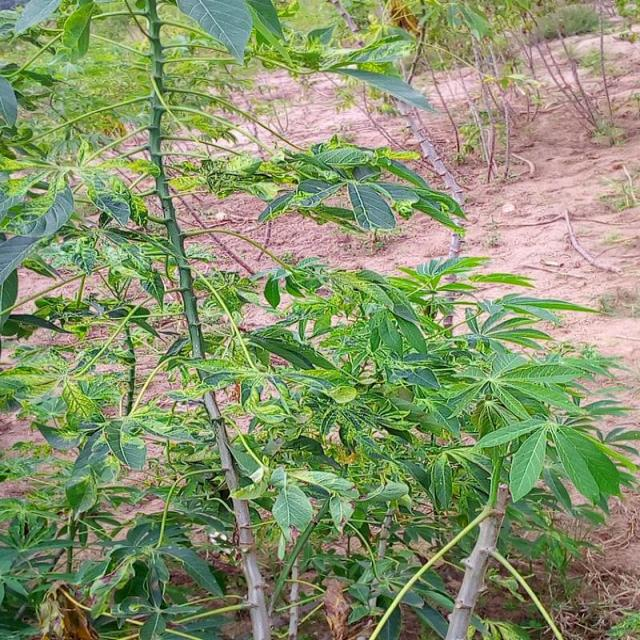cassava leaf: (176, 0, 253, 66), (346, 180, 396, 232)
